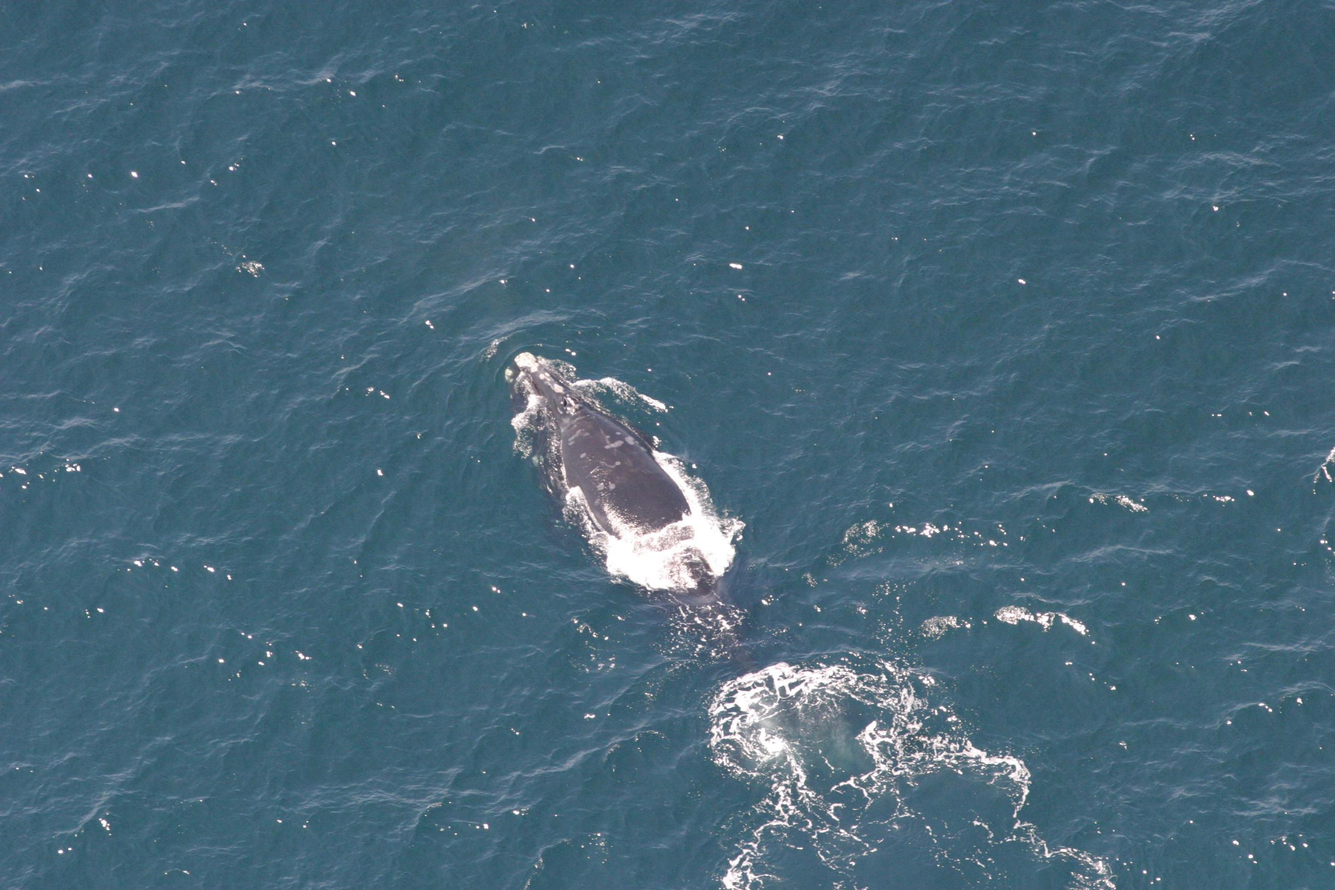whale: (500, 340, 765, 684)
